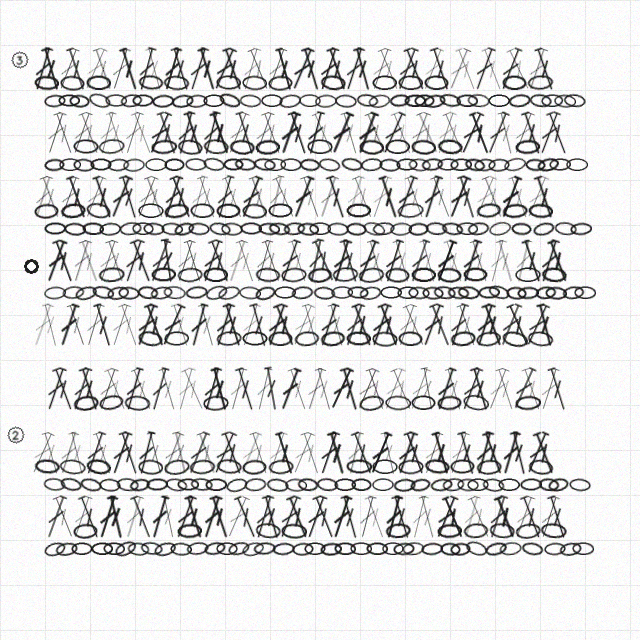chain: (501, 329, 529, 349), (462, 393, 490, 412), (113, 538, 138, 559), (85, 201, 112, 220), (137, 329, 164, 348), (98, 393, 125, 412), (85, 457, 112, 476), (163, 458, 191, 476), (163, 202, 190, 220), (358, 266, 385, 284), (475, 330, 502, 348), (527, 330, 554, 348), (358, 394, 385, 412), (59, 458, 86, 476), (87, 91, 112, 110), (217, 91, 242, 110), (204, 283, 229, 302), (464, 539, 489, 558), (177, 138, 203, 156), (307, 266, 333, 284), (73, 394, 99, 412), (528, 458, 554, 476), (515, 522, 541, 540), (527, 74, 554, 91), (98, 138, 125, 155), (397, 202, 424, 219), (98, 266, 125, 283), (332, 266, 359, 283), (540, 522, 567, 539), (487, 283, 511, 302), (138, 74, 164, 91), (320, 74, 346, 91), (203, 138, 229, 155), (437, 138, 463, 155), (60, 202, 86, 219), (476, 202, 502, 219), (541, 266, 567, 283), (216, 330, 242, 347), (294, 330, 320, 347), (320, 330, 346, 347), (450, 330, 476, 347), (34, 458, 60, 475), (216, 458, 242, 475), (424, 458, 450, 475), (255, 522, 281, 539), (385, 522, 411, 539), (463, 522, 489, 539), (489, 522, 515, 539), (163, 75, 190, 91), (362, 220, 386, 238), (532, 220, 556, 238), (74, 284, 98, 302), (217, 284, 241, 302), (124, 395, 151, 411), (189, 459, 216, 475), (79, 476, 103, 494), (225, 476, 249, 494), (43, 540, 67, 558), (153, 540, 177, 558), (241, 540, 265, 558), (484, 540, 508, 558), (151, 139, 177, 155), (229, 139, 255, 155), (502, 203, 528, 219), (177, 267, 203, 283), (255, 267, 281, 283), (281, 267, 307, 283), (372, 331, 398, 347), (203, 395, 229, 411), (385, 395, 411, 411), (515, 395, 541, 411), (268, 459, 294, 475), (398, 459, 424, 475), (476, 459, 502, 475), (281, 523, 307, 539), (173, 220, 196, 238), (254, 284, 277, 302), (438, 92, 462, 109), (202, 156, 226, 173), (340, 156, 364, 173), (503, 156, 527, 173), (536, 156, 560, 173), (488, 220, 512, 237), (91, 284, 115, 301), (59, 476, 83, 493), (203, 540, 227, 557), (227, 540, 251, 557), (34, 75, 59, 91), (60, 75, 85, 91), (242, 75, 267, 91), (268, 75, 293, 91), (255, 139, 280, 155), (359, 139, 384, 155), (411, 139, 436, 155), (515, 139, 540, 155), (34, 203, 59, 219), (242, 203, 267, 219), (528, 203, 553, 219), (385, 267, 410, 283), (437, 267, 462, 283), (437, 395, 462, 411), (138, 459, 163, 475), (242, 459, 267, 475), (73, 523, 98, 539), (177, 523, 202, 539), (437, 523, 462, 539), (547, 476, 570, 493), (73, 139, 99, 154), (307, 139, 333, 154), (138, 203, 164, 218), (515, 267, 541, 282), (242, 331, 268, 346), (346, 459, 372, 474), (372, 459, 398, 474), (278, 93, 302, 109), (208, 221, 232, 237), (106, 285, 130, 301), (86, 75, 111, 90), (216, 75, 241, 90), (372, 75, 397, 90), (398, 75, 423, 90), (424, 75, 449, 90), (502, 75, 527, 90), (385, 139, 410, 154), (190, 203, 215, 218), (216, 203, 241, 218), (268, 203, 293, 218), (346, 203, 371, 218), (151, 267, 176, 282), (203, 267, 228, 282), (411, 267, 436, 282), (463, 267, 488, 282), (164, 331, 189, 346), (268, 331, 293, 346), (346, 331, 371, 346), (398, 331, 423, 346), (411, 395, 436, 410), (450, 459, 475, 474), (171, 93, 194, 109), (368, 93, 391, 109), (423, 93, 446, 109), (318, 157, 341, 173), (268, 221, 291, 237), (441, 221, 464, 237), (150, 285, 173, 301), (359, 285, 382, 301), (165, 477, 188, 493), (266, 477, 289, 493), (409, 477, 432, 493), (430, 477, 453, 493), (482, 477, 505, 493), (55, 541, 78, 557), (521, 541, 544, 557), (559, 541, 582, 557), (464, 157, 486, 173), (129, 477, 151, 493), (120, 93, 143, 108), (356, 93, 379, 108), (467, 93, 490, 108), (508, 93, 531, 108), (529, 93, 552, 108), (563, 93, 586, 108), (234, 157, 257, 172), (253, 157, 276, 172), (360, 157, 383, 172), (421, 157, 444, 172), (119, 221, 142, 236), (283, 221, 306, 236), (372, 221, 395, 236), (425, 221, 448, 236), (467, 221, 490, 236), (554, 221, 577, 236), (62, 285, 85, 300), (163, 285, 186, 300), (185, 285, 208, 300), (291, 285, 314, 300), (433, 285, 456, 300), (457, 285, 480, 300), (562, 285, 585, 300), (43, 477, 66, 492), (116, 477, 139, 492), (190, 477, 213, 492), (244, 477, 267, 492), (316, 477, 339, 492), (442, 477, 465, 492), (140, 541, 163, 556), (186, 541, 209, 556), (253, 541, 276, 556), (402, 541, 425, 556), (499, 541, 522, 556), (389, 93, 411, 108), (137, 285, 159, 300), (535, 285, 557, 300), (297, 477, 319, 492), (538, 477, 560, 492), (239, 94, 262, 108), (107, 158, 130, 172), (408, 158, 431, 172), (313, 286, 336, 300), (447, 286, 470, 300), (393, 478, 416, 492), (127, 542, 150, 556), (272, 542, 295, 556), (44, 94, 66, 108), (152, 94, 174, 108), (186, 94, 208, 108), (315, 94, 337, 108), (335, 94, 357, 108), (554, 94, 576, 108), (73, 158, 95, 172), (123, 158, 145, 172), (299, 158, 321, 172), (379, 158, 401, 172), (474, 158, 496, 172), (488, 158, 510, 172), (64, 222, 86, 236), (99, 222, 121, 236), (143, 222, 165, 236), (161, 222, 183, 236), (188, 222, 210, 236), (221, 222, 243, 236), (258, 222, 280, 236), (297, 222, 319, 236), (327, 222, 349, 236), (390, 222, 412, 236), (570, 222, 592, 236), (44, 286, 66, 300), (118, 286, 140, 300), (239, 286, 261, 300), (408, 286, 430, 300), (422, 286, 444, 300), (517, 286, 539, 300), (545, 286, 567, 300), (99, 478, 121, 492), (285, 478, 307, 492), (457, 478, 479, 492), (569, 478, 591, 492), (170, 542, 192, 556), (292, 542, 314, 556), (320, 542, 342, 556), (393, 542, 415, 556), (421, 542, 443, 556), (544, 542, 566, 556), (69, 94, 90, 108), (44, 158, 65, 172), (525, 158, 546, 172), (346, 222, 367, 236), (408, 222, 429, 236), (511, 222, 532, 236), (506, 286, 527, 300), (440, 542, 461, 556), (450, 542, 471, 556), (58, 94, 80, 107), (105, 94, 127, 107), (132, 94, 154, 107), (203, 94, 225, 107), (261, 94, 283, 107), (299, 94, 321, 107), (404, 94, 426, 107), (456, 94, 478, 107), (488, 94, 510, 107), (541, 94, 563, 107), (59, 158, 81, 171), (90, 158, 112, 171), (145, 158, 167, 171), (185, 158, 207, 171), (264, 158, 286, 171), (280, 158, 302, 171), (396, 158, 418, 171), (437, 158, 459, 171), (450, 158, 472, 171), (549, 158, 571, 171), (566, 158, 588, 171), (44, 222, 66, 235), (82, 222, 104, 235), (132, 222, 154, 235), (240, 222, 262, 235), (309, 222, 331, 235), (456, 222, 478, 235), (274, 286, 296, 299), (331, 286, 353, 299), (347, 286, 369, 299), (380, 286, 402, 299), (397, 286, 419, 299), (478, 286, 500, 299), (574, 286, 596, 299), (146, 478, 168, 491), (177, 478, 199, 491), (205, 478, 227, 491), (334, 478, 356, 491), (372, 478, 394, 491), (467, 478, 489, 491), (498, 478, 520, 491), (520, 478, 542, 491), (71, 542, 93, 555), (91, 542, 113, 555), (103, 542, 125, 555), (216, 542, 238, 555), (304, 542, 326, 555), (334, 542, 356, 555), (350, 542, 372, 555), (366, 542, 388, 555), (382, 542, 404, 555), (572, 542, 594, 555), (414, 94, 435, 107), (164, 158, 185, 171), (223, 158, 244, 171), (351, 478, 372, 491)
double: (503, 46, 535, 92), (521, 302, 553, 348), (209, 46, 240, 92), (287, 46, 318, 92), (144, 110, 175, 156), (308, 110, 339, 156), (378, 110, 409, 156), (456, 110, 487, 156), (269, 174, 300, 220), (157, 302, 188, 348), (399, 302, 430, 348), (503, 302, 534, 348), (178, 366, 209, 412), (352, 366, 383, 412), (27, 430, 58, 476), (209, 430, 240, 476), (222, 494, 253, 540), (464, 494, 495, 540), (326, 366, 357, 411), (244, 46, 274, 92), (374, 46, 404, 92), (400, 46, 430, 92), (444, 46, 474, 92), (223, 110, 253, 156), (327, 110, 357, 156), (361, 110, 391, 156), (387, 110, 417, 156), (439, 110, 469, 156), (80, 174, 110, 220), (106, 174, 136, 220), (132, 174, 162, 220), (166, 174, 196, 220), (218, 174, 248, 220), (236, 174, 266, 220), (348, 174, 378, 220), (444, 174, 474, 220), (470, 174, 500, 220), (478, 174, 508, 220), (522, 174, 552, 220), (288, 302, 318, 348), (101, 366, 131, 412), (127, 366, 157, 412), (379, 366, 409, 412), (387, 366, 417, 412), (483, 366, 513, 412), (288, 430, 318, 476), (231, 494, 261, 540), (283, 494, 313, 540), (309, 494, 339, 540), (431, 494, 461, 540), (80, 46, 110, 91), (413, 110, 443, 155), (309, 238, 339, 283), (509, 366, 539, 411), (522, 430, 552, 475), (54, 46, 83, 92), (262, 46, 291, 92), (418, 46, 447, 92), (452, 46, 481, 92), (470, 46, 499, 92), (478, 46, 507, 92), (496, 46, 525, 92), (75, 110, 104, 156), (353, 110, 382, 156), (405, 110, 434, 156), (483, 110, 512, 156), (509, 110, 538, 156), (535, 110, 564, 156), (543, 110, 572, 156), (36, 174, 65, 220), (140, 174, 169, 220), (392, 174, 421, 220), (496, 174, 525, 220), (49, 238, 78, 284), (127, 238, 156, 284), (205, 238, 234, 284), (353, 238, 382, 284), (132, 302, 161, 348), (270, 302, 299, 348), (348, 302, 377, 348), (374, 302, 403, 348), (418, 302, 447, 348), (426, 302, 455, 348), (478, 302, 507, 348), (496, 302, 525, 348), (49, 366, 78, 412), (405, 366, 434, 412), (457, 366, 486, 412), (158, 430, 187, 476), (184, 430, 213, 476), (218, 430, 247, 476), (236, 430, 265, 476), (348, 430, 377, 476), (366, 430, 395, 476), (400, 430, 429, 476), (530, 430, 559, 476), (49, 494, 78, 540), (75, 494, 104, 540), (127, 494, 156, 540), (171, 494, 200, 540), (275, 494, 304, 540), (361, 494, 390, 540), (439, 494, 468, 540), (491, 494, 520, 540), (517, 494, 546, 540), (89, 46, 117, 92), (219, 46, 247, 92), (323, 46, 351, 92), (367, 46, 395, 92), (393, 46, 421, 92), (523, 46, 551, 92), (531, 46, 559, 92), (42, 110, 70, 156), (50, 110, 78, 156), (68, 110, 96, 156), (102, 110, 130, 156), (128, 110, 156, 156), (206, 110, 234, 156), (250, 110, 278, 156), (258, 110, 286, 156), (276, 110, 304, 156), (284, 110, 312, 156), (432, 110, 460, 156), (466, 110, 494, 156), (518, 110, 546, 156), (63, 174, 91, 220), (89, 174, 117, 220), (193, 174, 221, 220), (245, 174, 273, 220), (289, 174, 317, 220), (367, 174, 395, 220), (375, 174, 403, 220), (401, 174, 429, 220), (427, 174, 455, 220), (505, 174, 533, 220), (42, 238, 70, 284), (94, 238, 122, 284), (120, 238, 148, 284), (146, 238, 174, 284), (198, 238, 226, 284), (232, 238, 260, 284), (276, 238, 304, 284), (432, 238, 460, 284), (440, 238, 468, 284), (518, 238, 546, 284), (544, 238, 572, 284), (29, 302, 57, 348), (55, 302, 83, 348), (141, 302, 169, 348), (263, 302, 291, 348), (315, 302, 343, 348), (367, 302, 395, 348), (453, 302, 481, 348), (42, 366, 70, 412), (94, 366, 122, 412), (276, 366, 304, 412), (284, 366, 312, 412), (362, 366, 390, 412), (432, 366, 460, 412), (518, 366, 546, 412), (81, 430, 109, 476), (89, 430, 117, 476), (107, 430, 135, 476), (115, 430, 143, 476), (193, 430, 221, 476), (263, 430, 291, 476), (297, 430, 325, 476), (315, 430, 343, 476), (393, 430, 421, 476), (445, 430, 473, 476), (479, 430, 507, 476), (42, 494, 70, 540), (68, 494, 96, 540), (302, 494, 330, 540), (510, 494, 538, 540), (63, 46, 90, 92), (107, 46, 134, 92), (167, 46, 194, 92), (185, 46, 212, 92), (315, 46, 342, 92), (341, 46, 368, 92), (427, 46, 454, 92), (120, 110, 147, 156), (154, 110, 181, 156), (180, 110, 207, 156), (232, 110, 259, 156), (55, 174, 82, 220), (159, 174, 186, 220), (297, 174, 324, 220), (315, 174, 342, 220), (323, 174, 350, 220), (419, 174, 446, 220), (531, 174, 558, 220), (68, 238, 95, 284), (76, 238, 103, 284), (102, 238, 129, 284), (172, 238, 199, 284), (180, 238, 207, 284), (224, 238, 251, 284), (258, 238, 285, 284), (328, 238, 355, 284), (380, 238, 407, 284), (406, 238, 433, 284), (458, 238, 485, 284), (466, 238, 493, 284), (536, 238, 563, 284), (63, 302, 90, 348), (81, 302, 108, 348), (107, 302, 134, 348), (115, 302, 142, 348), (167, 302, 194, 348), (211, 302, 238, 348), (219, 302, 246, 348), (237, 302, 264, 348), (341, 302, 368, 348), (393, 302, 420, 348), (445, 302, 472, 348), (68, 366, 95, 412), (76, 366, 103, 412), (232, 366, 259, 412), (302, 366, 329, 412), (492, 366, 519, 412), (536, 366, 563, 412), (544, 366, 571, 412), (55, 430, 82, 476), (419, 430, 446, 476), (94, 494, 121, 540), (206, 494, 233, 540), (328, 494, 355, 540), (388, 494, 415, 540), (536, 494, 563, 540), (544, 494, 571, 540), (30, 46, 56, 92), (38, 46, 64, 92), (116, 46, 142, 92), (194, 46, 220, 92), (238, 46, 264, 92), (298, 46, 324, 92), (173, 110, 199, 156), (337, 110, 363, 156), (30, 174, 56, 220), (116, 174, 142, 220), (186, 174, 212, 220), (212, 174, 238, 220), (342, 174, 368, 220), (454, 174, 480, 220), (251, 238, 277, 284), (285, 238, 311, 284), (363, 238, 389, 284), (389, 238, 415, 284), (90, 302, 116, 348), (186, 302, 212, 348), (194, 302, 220, 348), (246, 302, 272, 348), (298, 302, 324, 348), (472, 302, 498, 348), (121, 366, 147, 412), (155, 366, 181, 412), (173, 366, 199, 412), (199, 366, 225, 412), (225, 366, 251, 412), (311, 366, 337, 412), (337, 366, 363, 412), (441, 366, 467, 412), (467, 366, 493, 412), (38, 430, 64, 476), (246, 430, 272, 476), (272, 430, 298, 476), (324, 430, 350, 476), (428, 430, 454, 476), (454, 430, 480, 476), (498, 430, 524, 476), (121, 494, 147, 540), (181, 494, 207, 540), (199, 494, 225, 540), (251, 494, 277, 540), (337, 494, 363, 540), (485, 494, 511, 540), (134, 46, 159, 92), (142, 46, 167, 92), (160, 46, 185, 92), (272, 46, 297, 92), (350, 46, 375, 92), (95, 110, 120, 156), (199, 110, 224, 156), (303, 110, 328, 156), (337, 238, 362, 284), (485, 238, 510, 284), (493, 238, 518, 284), (38, 302, 63, 348), (324, 302, 349, 348), (147, 366, 172, 412), (207, 366, 232, 412), (134, 430, 159, 476), (472, 430, 497, 476), (147, 494, 172, 540), (259, 494, 284, 540), (355, 494, 380, 540), (381, 494, 406, 540), (407, 494, 432, 540), (415, 494, 440, 540), (459, 494, 484, 540), (494, 110, 518, 156), (416, 238, 440, 284), (533, 302, 557, 348), (65, 430, 89, 476), (143, 430, 167, 476), (343, 430, 367, 476), (377, 430, 401, 476), (507, 430, 531, 476), (104, 494, 128, 540), (512, 238, 535, 284), (252, 366, 275, 412), (265, 174, 288, 219), (169, 430, 192, 475), (305, 238, 327, 283), (157, 494, 179, 539), (157, 238, 178, 283), (261, 366, 282, 411), (417, 366, 438, 411)
noise: (5, 424, 27, 446), (9, 49, 30, 70), (22, 257, 40, 275)
